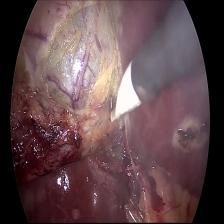Hook: (105, 58, 147, 128)
